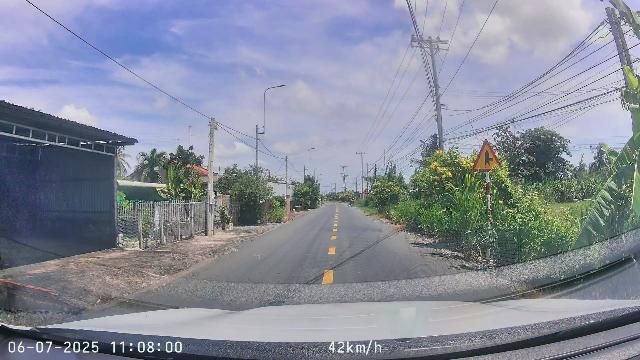207-giao-nhau-voi-duong-khong-uu-tien: (472, 139, 503, 171)
